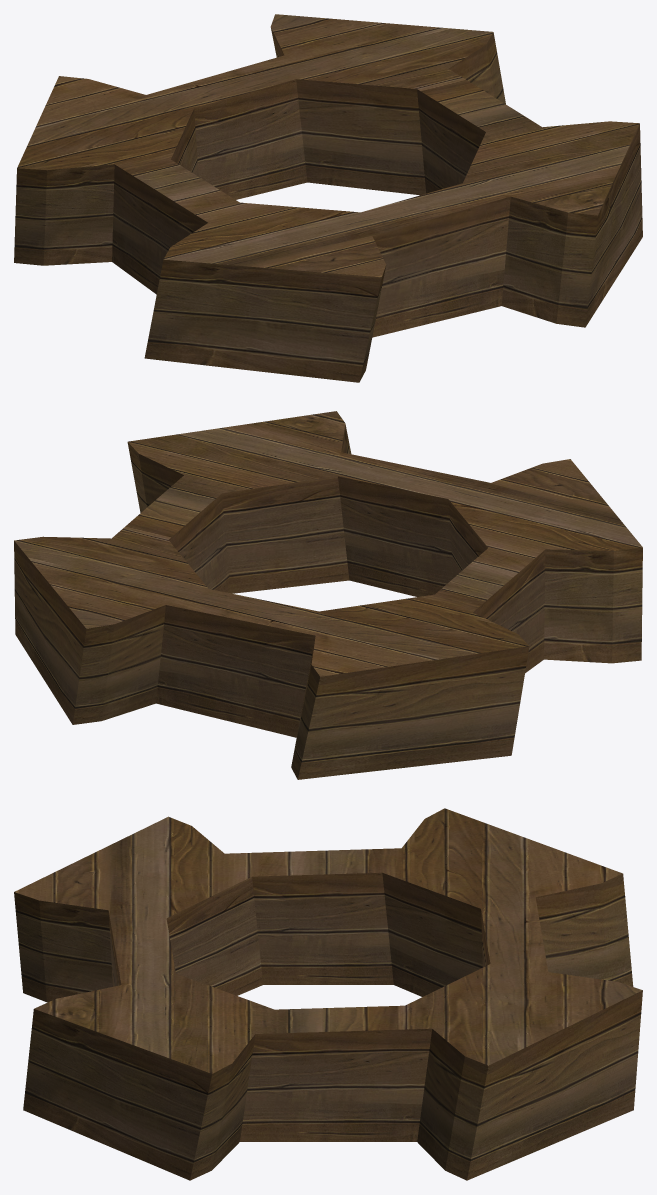
Rendered from Gear_wood.gltf.
3 views of the same model, one above another, from view 1: azimuth 30°, elevation 25°; view 2: azimuth 150°, elevation 25°; view 3: azimuth 270°, elevation 25° (orthographic). The views are drawn at different scales.
Visible parts, largest first — view 1: Gear_wood_glb; view 2: Gear_wood_glb; view 3: Gear_wood_glb.
Boxes of the visible parts, left/top/right/bottom form: Gear_wood_glb: left=14, top=14, right=642, bottom=382; Gear_wood_glb: left=14, top=411, right=642, bottom=779; Gear_wood_glb: left=14, top=808, right=642, bottom=1180.
Size of the model in its own units: 2.06 by 0.4 by 2.06.
Materials: 1 (1 with a texture image).
